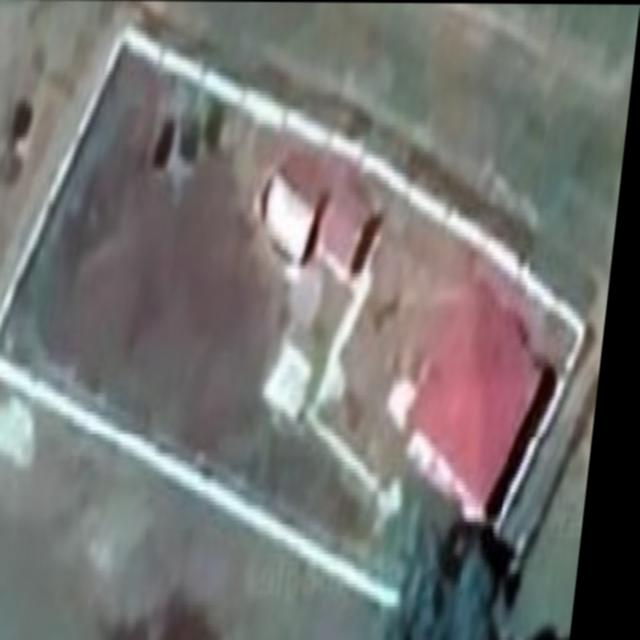Batiment: (419, 279, 563, 519), (265, 148, 388, 276)
